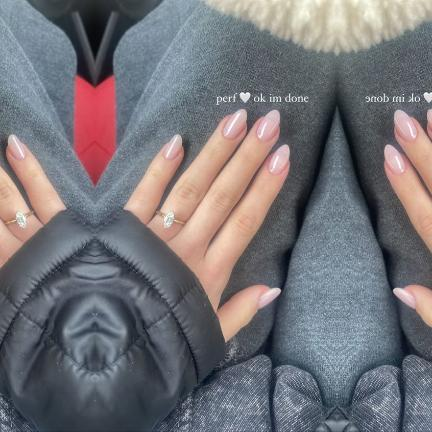Nail: (256, 110, 280, 140), (394, 110, 418, 140), (222, 110, 246, 139), (268, 145, 289, 174), (385, 145, 406, 174), (257, 288, 281, 308), (393, 288, 416, 308), (163, 135, 181, 159), (7, 135, 25, 159), (427, 110, 432, 130)
